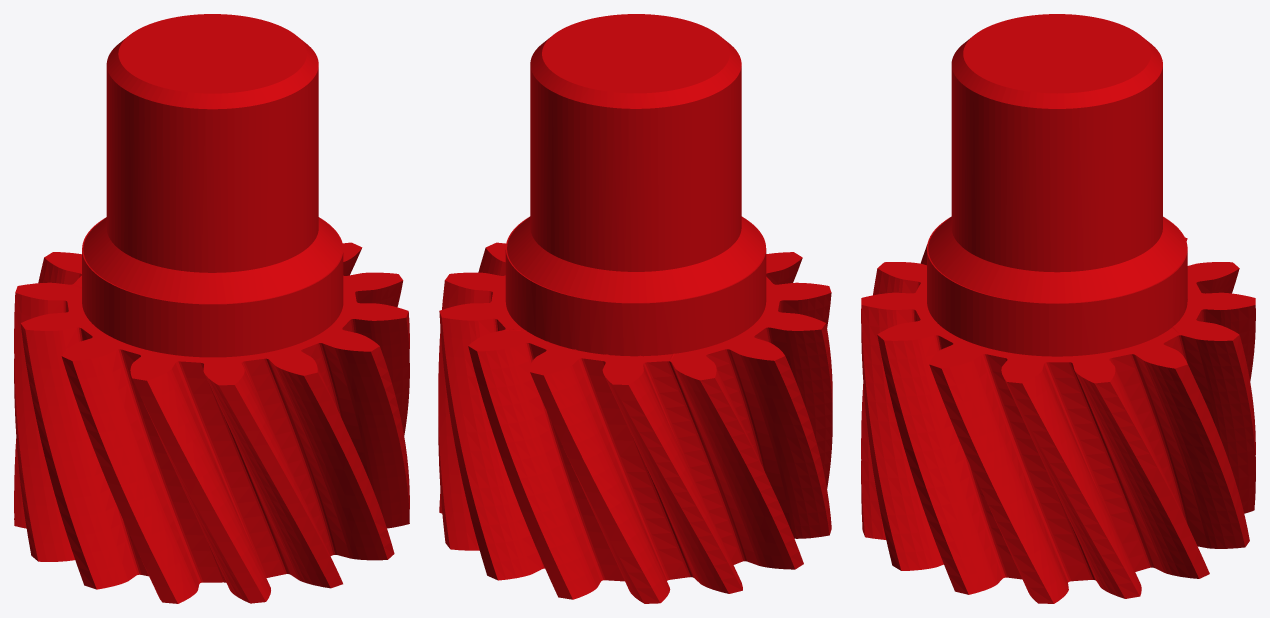
The model's file is smallGear_v1.dae.
The picture shows the model from 3 angles, left to right: view 1: azimuth 30°, elevation 25°; view 2: azimuth 150°, elevation 25°; view 3: azimuth 270°, elevation 25°; orthographic projection.
Parts seen in each view (by area): view 1: _c644462798684196e00a6f8; view 2: _c644462798684196e00a6f8; view 3: _c644462798684196e00a6f8.
Part boxes in pixels (x1,y1,x2,y2): _c644462798684196e00a6f8: [14, 14, 409, 603]; _c644462798684196e00a6f8: [438, 14, 832, 603]; _c644462798684196e00a6f8: [861, 14, 1255, 603].
Size of the model in its own units: 0.0339 by 0.0339 by 0.0442.
